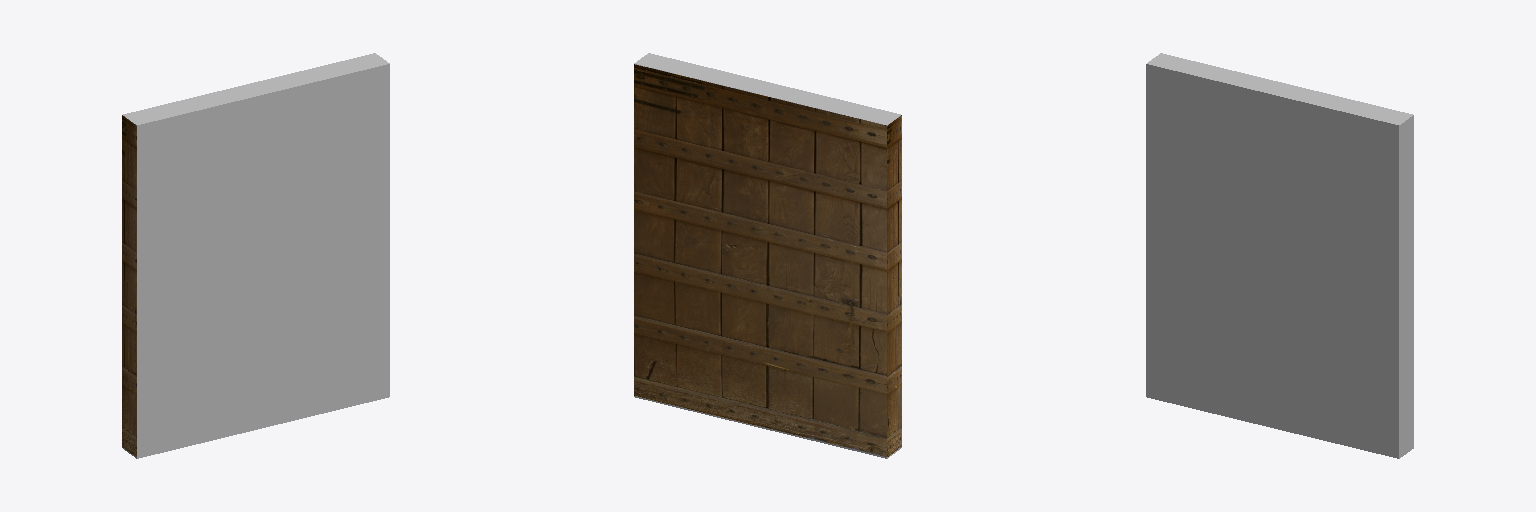
3 renders of one model, left to right at view 1: azimuth 30°, elevation 25°; view 2: azimuth 150°, elevation 25°; view 3: azimuth 330°, elevation 25°, orthographic.
Visible parts, largest first — view 1: DoorLeft; view 2: DoorLeft; view 3: DoorLeft.
Boxes of the visible parts, <box> form: DoorLeft: <box>122,53,389,458</box>; DoorLeft: <box>634,53,901,458</box>; DoorLeft: <box>1146,53,1413,458</box>.
Size of the model in its own units: 2 by 2.52 by 0.2026.
Materials: 2 (1 with a texture image).